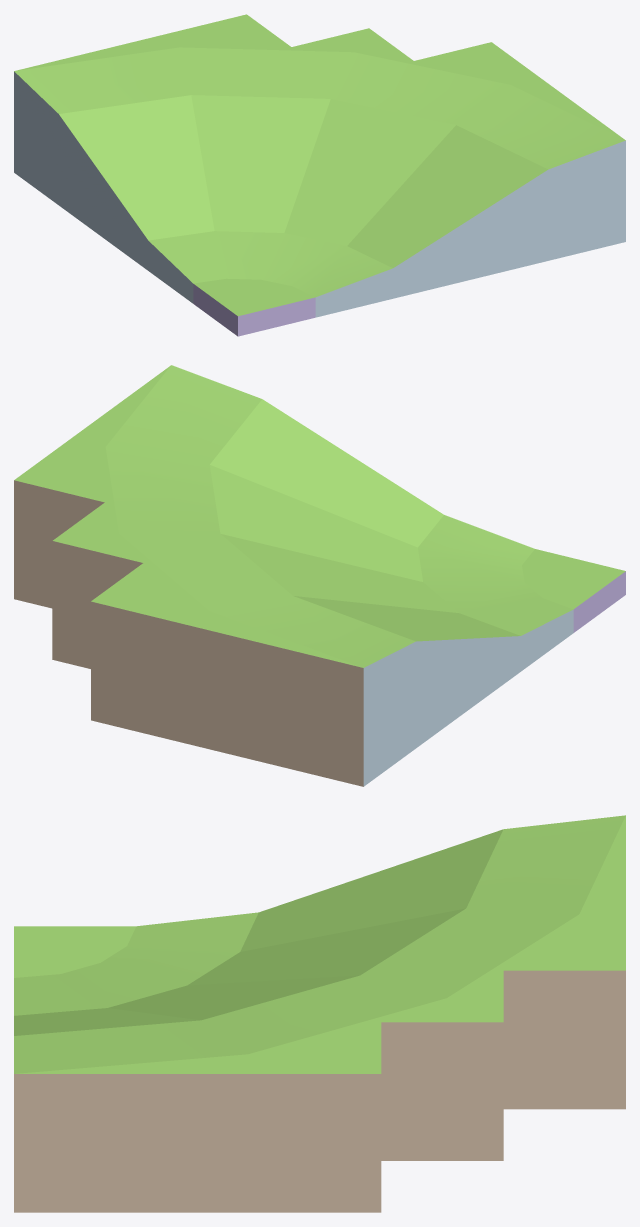
The model's file is Grass_Hill_Gentle_Curve_Inner_4x4.glb.
3 views of the same model, one above another, from view 1: azimuth 30°, elevation 25°; view 2: azimuth 150°, elevation 25°; view 3: azimuth 270°, elevation 25° (orthographic). The views are drawn at different scales.
Parts seen in each view (by area): view 1: Grass_Hill_Gentle_Curve_Inner_4x4; view 2: Grass_Hill_Gentle_Curve_Inner_4x4; view 3: Grass_Hill_Gentle_Curve_Inner_4x4.
Part boxes in pixels (x1,y1,x2,y2): Grass_Hill_Gentle_Curve_Inner_4x4: (14,14,625,336); Grass_Hill_Gentle_Curve_Inner_4x4: (14,365,625,786); Grass_Hill_Gentle_Curve_Inner_4x4: (14,815,625,1212).
Size of the model in its own units: 500 by 125 by 500.
